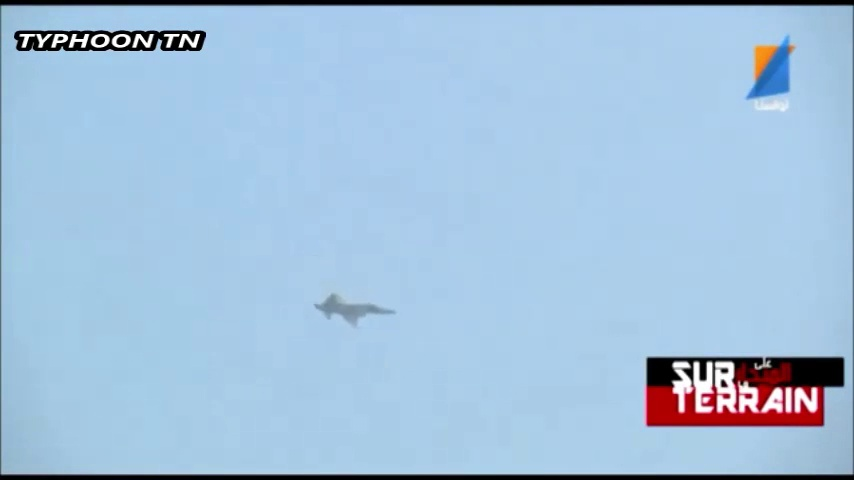Airplane: (312, 291, 397, 330)
